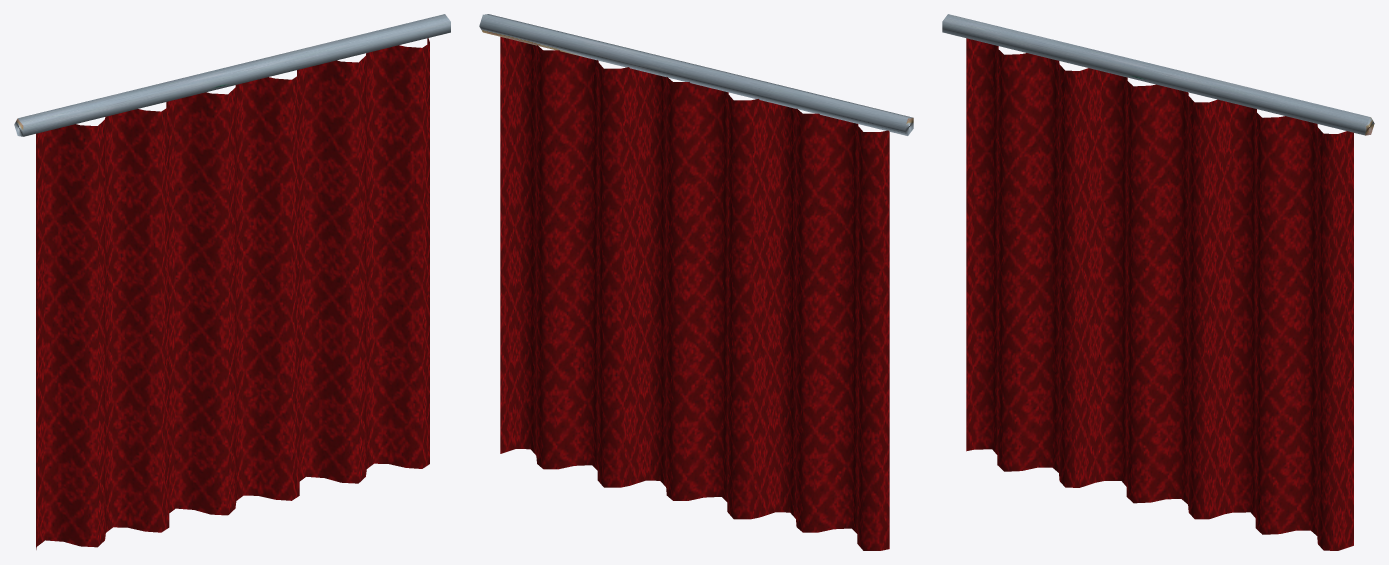
File: curtain.glb
3 renders of one model, left to right at view 1: azimuth 30°, elevation 25°; view 2: azimuth 150°, elevation 25°; view 3: azimuth 330°, elevation 25°, orthographic.
Visible parts, largest first — view 1: Vert.004, Cylinder.046; view 2: Vert.004, Cylinder.046; view 3: Vert.004, Cylinder.046.
Boxes of the visible parts, left/top/right/bottom form: Vert.004: left=36, top=38, right=429, bottom=549; Cylinder.046: left=14, top=14, right=450, bottom=136; Vert.004: left=500, top=37, right=889, bottom=550; Cylinder.046: left=479, top=14, right=913, bottom=135; Vert.004: left=966, top=38, right=1353, bottom=550; Cylinder.046: left=942, top=14, right=1374, bottom=135.
Size of the model in its own units: 17.74 by 17.34 by 1.52.
2 materials, 2 textured.
